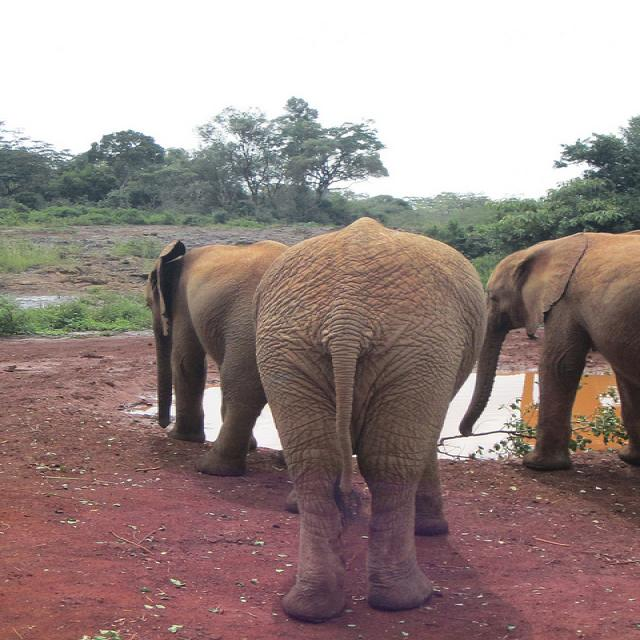Elephant: (250, 215, 487, 622), (457, 228, 639, 471), (144, 237, 291, 476)
